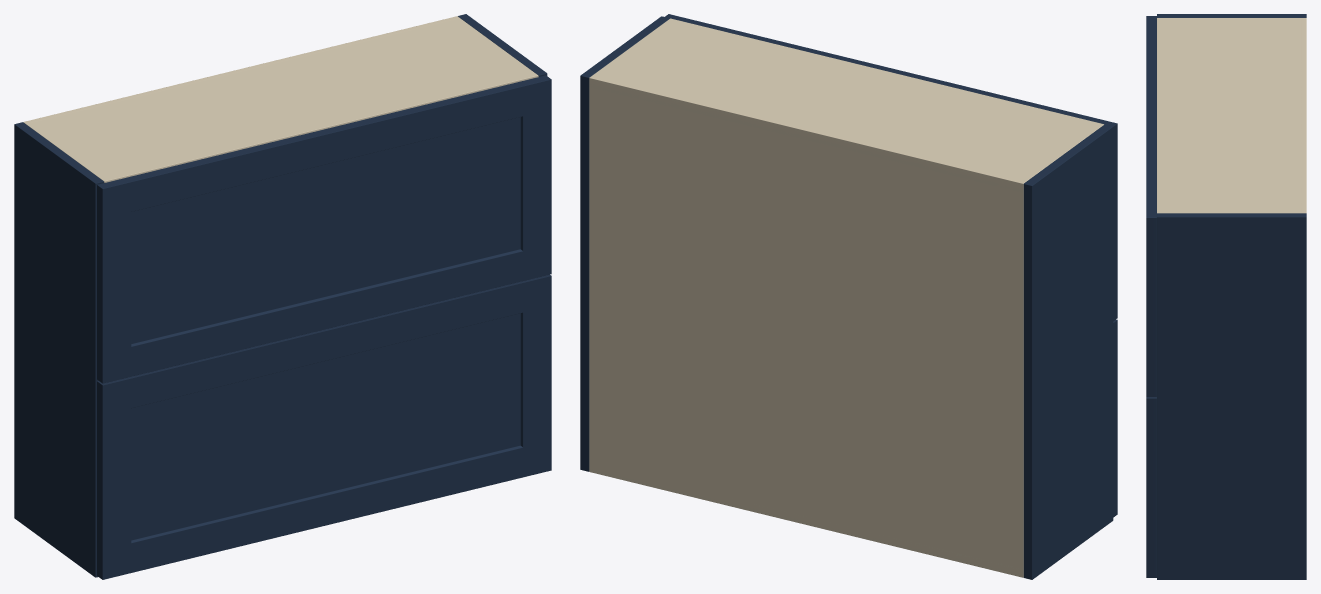
Rendered from oppein-ply-bss-wbf3630.glb.
The picture shows the model from 3 angles, left to right: view 1: azimuth 30°, elevation 25°; view 2: azimuth 150°, elevation 25°; view 3: azimuth 270°, elevation 25°; orthographic projection. The views are drawn at different scales.
Visible parts, largest first — view 1: Door.001, Door, Cabinet top, Cabinet side, Cabinet back, Cabinet side.001; view 2: Cabinet back, Cabinet top, Cabinet side, Cabinet side.001, Door.001, Cabinet bottom, Door; view 3: Cabinet side.001, Cabinet top, Door.001, Door, Cabinet back, Cabinet side.
Boxes of the visible parts, x1,y1,x2,y2 form: Door.001: (97, 75, 551, 383); Door: (97, 274, 551, 579); Cabinet top: (23, 18, 538, 182); Cabinet side: (14, 122, 104, 577); Cabinet back: (24, 16, 459, 124); Cabinet side.001: (458, 14, 547, 76); Cabinet back: (589, 75, 1026, 577); Cabinet top: (589, 18, 1103, 192); Cabinet side: (1023, 124, 1113, 579); Cabinet side.001: (580, 16, 669, 471); Door.001: (665, 14, 1117, 320); Cabinet bottom: (589, 467, 1023, 577); Door: (1113, 319, 1117, 517); Cabinet side.001: (1157, 213, 1306, 579); Cabinet top: (1157, 18, 1306, 213); Door.001: (1146, 16, 1156, 396); Door: (1146, 397, 1156, 577); Cabinet back: (1300, 18, 1306, 213); Cabinet side: (1157, 14, 1306, 17).
Size of the model in its own units: 0.9144 by 0.762 by 0.3048.
